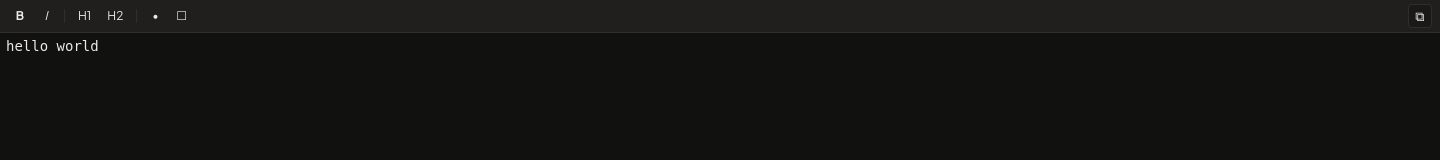
Test: NotesToolbar › Italic wraps the current selection in *
This screenshot has width=1440, height=160.
Click the button named "Italic" at (46, 16), box [34,4,58,28]
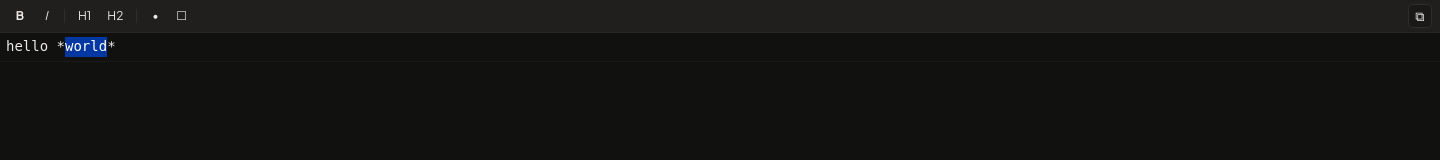
Expected: the text box labelled "hello *world*" is shown, [6,38,116,54]
